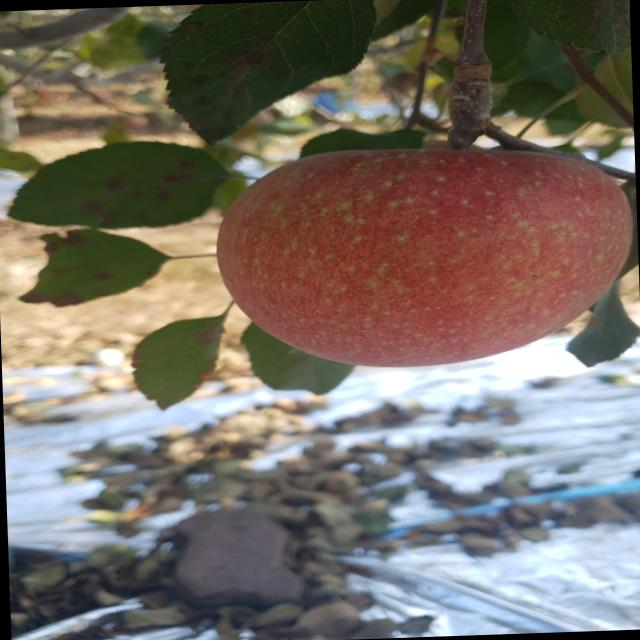fresh: (198, 125, 640, 384)
